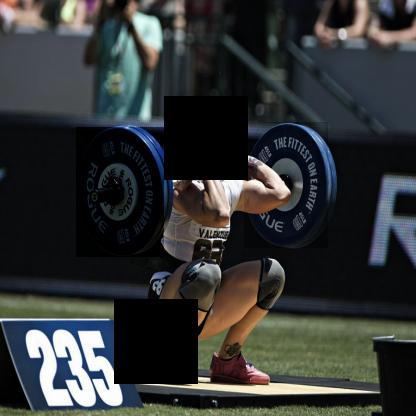barbell: (77, 128, 165, 258), (245, 123, 329, 249)
